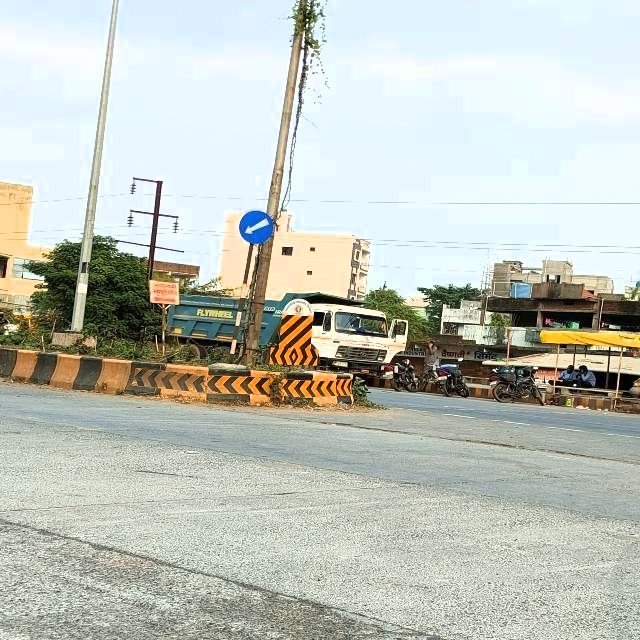R.301e: (239, 210, 275, 246)
